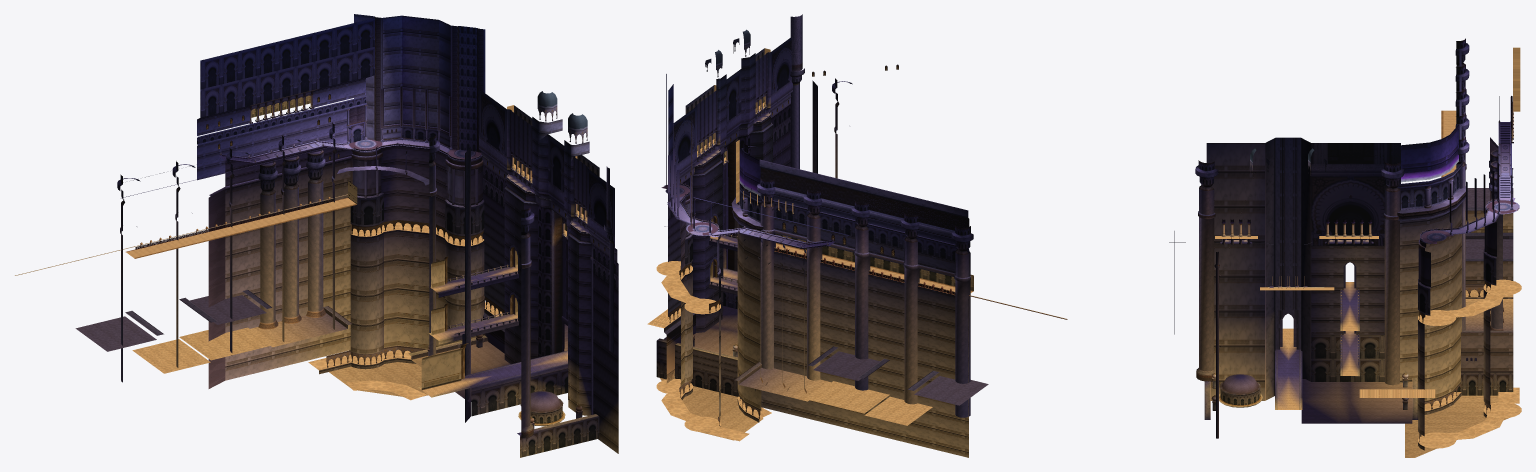
File: NPAct1Sidle.gltf
3 views of the same model, side by side, from view 1: azimuth 30°, elevation 25°; view 2: azimuth 150°, elevation 25°; view 3: azimuth 270°, elevation 25° (orthographic). The views are drawn at different scales.
Visible parts, largest first — view 1: stg070_o04_Mesh_0118, stg070_o04_Mesh_0194, stg070_o04_Mesh_0028, stg070_o04_Mesh_0117, stg070_o03_Mesh_0097, stg070_o04_Mesh_0112, stg070_o04_Mesh_0122, stg070_o03_Mesh_0096, stg070_o03_Mesh_0138, stg070_o04_Mesh_0115, stg070_o04_Mesh_0189, stg070_o04_Mesh_0190 (+33 smaller); view 2: stg070_o04_Mesh_0126, stg070_o04_Mesh_0190, stg070_o04_Mesh_0028, stg070_o03_Mesh_0097, stg070_o04_Mesh_0125, stg070_o04_Mesh_0070, stg070_o03_Mesh_0138, stg070_o03_Mesh_0096, stg070_o04_Mesh_0103, stg070_o04_Mesh_0202, stg070_o03_Mesh_0134, stg070_o04_Mesh_0069 (+21 smaller); view 3: stg070_o03_Mesh_0112, stg070_o04_Mesh_0125, stg070_o03_Mesh_0150, stg070_o04_Mesh_0028, stg070_o04_Mesh_0190, stg070_o03_Mesh_0114, stg070_o03_Mesh_0081, stg070_o04_Mesh_0142, stg070_o04_Mesh_0112, stg070_o03_Mesh_0016, stg070_o04_Mesh_0069, stg070_o03_Mesh_0015 (+19 smaller).
Part boxes in pixels (<box>): stg070_o04_Mesh_0118: <box>225,147,352,380</box>; stg070_o04_Mesh_0194: <box>197,18,374,144</box>; stg070_o04_Mesh_0028: <box>75,295,510,402</box>; stg070_o04_Mesh_0117: <box>381,145,447,348</box>; stg070_o03_Mesh_0097: <box>479,109,618,453</box>; stg070_o04_Mesh_0112: <box>349,157,484,354</box>; stg070_o04_Mesh_0122: <box>383,15,450,146</box>; stg070_o03_Mesh_0096: <box>504,182,591,415</box>; stg070_o03_Mesh_0138: <box>479,89,618,399</box>; stg070_o04_Mesh_0115: <box>197,78,366,180</box>; stg070_o04_Mesh_0189: <box>260,181,323,323</box>; stg070_o04_Mesh_0190: <box>120,152,530,428</box>; stg070_o04_Mesh_0126: <box>760,167,969,457</box>; stg070_o04_Mesh_0190: <box>743,105,970,417</box>; stg070_o04_Mesh_0028: <box>660,306,988,440</box>; stg070_o03_Mesh_0097: <box>676,52,792,179</box>; stg070_o04_Mesh_0125: <box>737,146,761,410</box>; stg070_o04_Mesh_0070: <box>759,159,969,276</box>; stg070_o03_Mesh_0138: <box>673,37,791,310</box>; stg070_o03_Mesh_0096: <box>692,119,772,332</box>; stg070_o04_Mesh_0103: <box>760,168,969,230</box>; stg070_o04_Mesh_0202: <box>772,202,969,263</box>; stg070_o03_Mesh_0134: <box>790,14,802,169</box>; stg070_o04_Mesh_0069: <box>741,81,973,254</box>; stg070_o03_Mesh_0112: <box>1206,137,1301,400</box>; stg070_o04_Mesh_0125: <box>1400,124,1461,401</box>; stg070_o03_Mesh_0150: <box>1311,143,1400,381</box>; stg070_o04_Mesh_0028: <box>1301,188,1513,457</box>; stg070_o04_Mesh_0190: <box>1199,80,1466,385</box>; stg070_o03_Mesh_0114: <box>1311,245,1384,335</box>; stg070_o03_Mesh_0081: <box>1265,138,1311,400</box>; stg070_o04_Mesh_0142: <box>1461,210,1513,372</box>; stg070_o04_Mesh_0112: <box>1418,222,1496,436</box>; stg070_o03_Mesh_0016: <box>1277,328,1299,409</box>; stg070_o04_Mesh_0069: <box>1195,43,1469,381</box>; stg070_o03_Mesh_0015: <box>1342,282,1357,375</box>.
Bounding box in the file's own units: 268 × 176 × 209.
21 materials, 20 textured.
